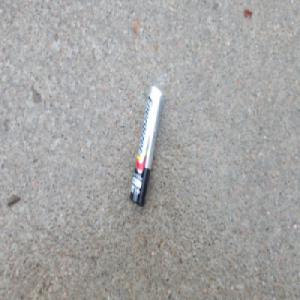Battery: (127, 84, 162, 208)
